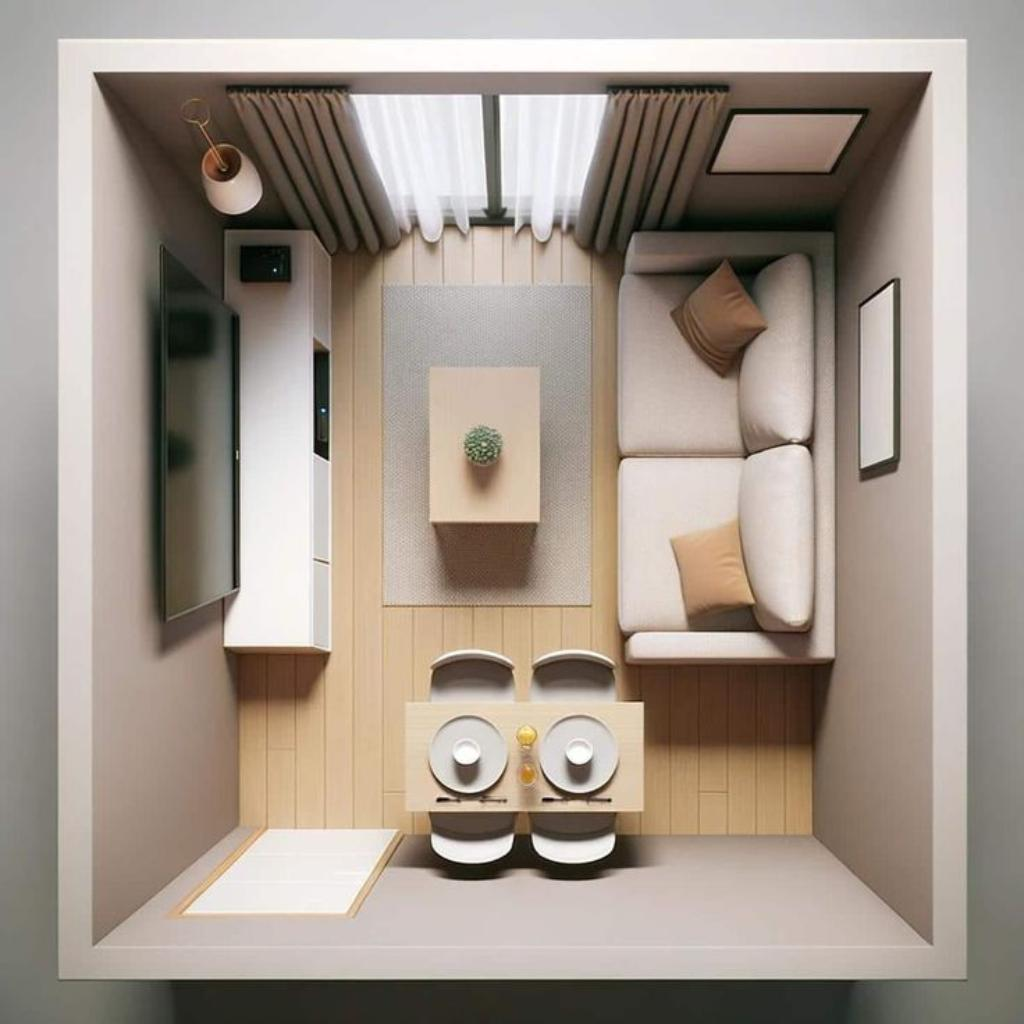TV stand: (220, 236, 328, 656)
chair: (429, 816, 517, 864), (530, 816, 618, 864), (430, 650, 514, 698), (527, 654, 611, 698)
coffee table: (432, 370, 540, 522)
dining table: (408, 704, 644, 814)
floor lamp: (218, 168, 264, 216)
rug: (381, 284, 593, 606)
sofa: (617, 228, 837, 660)
window: (230, 86, 486, 112), (491, 86, 727, 114)
